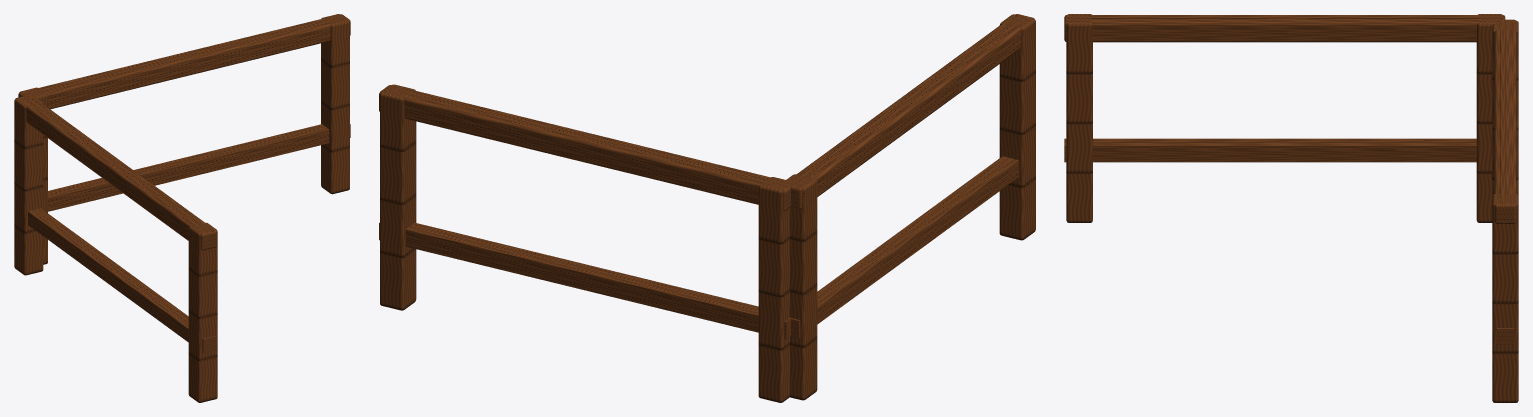
The model's file is modular-survival-base-builder-corner-guardrail-1455094a__24227.glb.
3 views of the same model, side by side, from view 1: azimuth 30°, elevation 25°; view 2: azimuth 150°, elevation 25°; view 3: azimuth 270°, elevation 25° (orthographic). The views are drawn at different scales.
Visible parts, largest first — view 1: corner-guardrail; view 2: corner-guardrail; view 3: corner-guardrail.
Part boxes in pixels (x1,y1,x2,y2): corner-guardrail: (14,14,350,402); corner-guardrail: (379,14,1035,402); corner-guardrail: (1064,14,1518,402).
Bounding box in the file's own units: 2.06 × 0.9999 × 2.06.
Materials: 1 (1 with a texture image).
